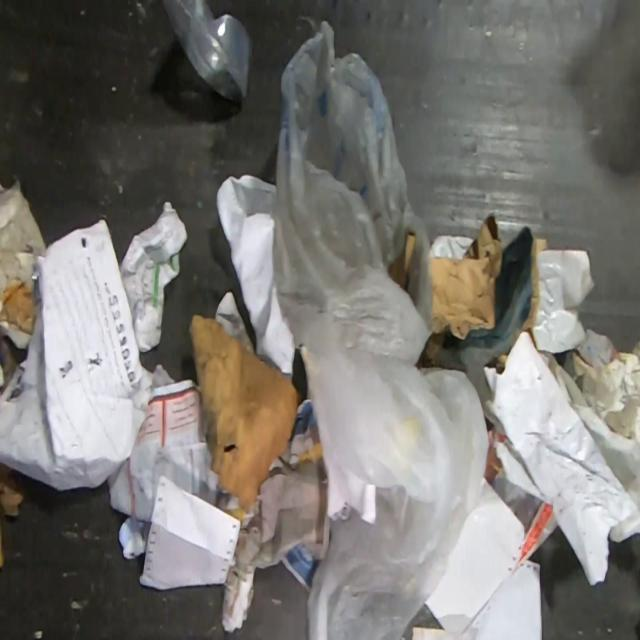cardboard: (416, 211, 548, 401), (188, 313, 300, 515)
rigid_plastic: (162, 0, 251, 102)
soft_plastic: (273, 20, 489, 640)
